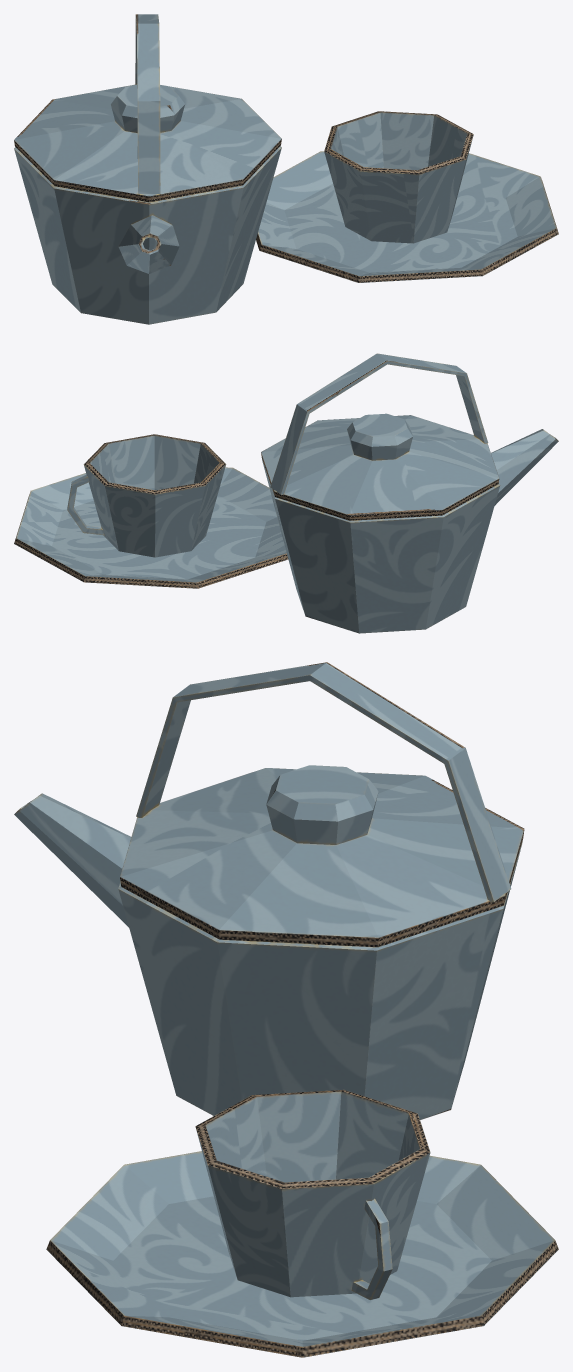
The model's file is prop-teapot1.glb.
3 renders of one model, top to bottom at view 1: azimuth 30°, elevation 25°; view 2: azimuth 150°, elevation 25°; view 3: azimuth 270°, elevation 25°, orthographic. The views are drawn at different scales.
Parts seen in each view (by area): view 1: bake.018, bake.020, bake.019; view 2: bake.018, bake.020, bake.019; view 3: bake.018, bake.020, bake.019.
Part boxes in pixels (left/top/right/bottom): bake.018: left=14, top=14, right=281, bottom=324; bake.020: left=256, top=151, right=558, bottom=282; bake.019: left=324, top=111, right=473, bottom=243; bake.018: left=261, top=353, right=558, bottom=633; bake.020: left=14, top=467, right=288, bottom=588; bake.019: left=67, top=434, right=226, bottom=557; bake.018: left=14, top=662, right=524, bottom=1119; bake.020: left=46, top=1151, right=558, bottom=1357; bake.019: left=195, top=1089, right=430, bottom=1299.
Bounding box in the file's own units: 1.23 × 0.6176 × 0.7403.
Materials: 1 (1 with a texture image).
